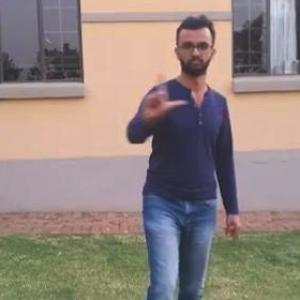land_hand: (136, 66, 190, 128)
